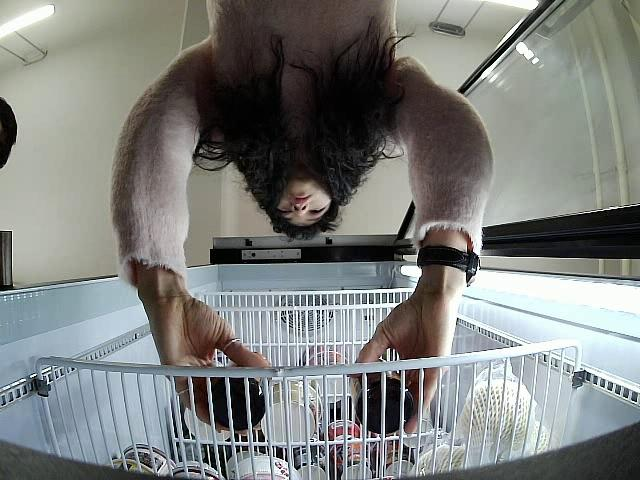00_hand: (151, 297, 270, 437), (346, 296, 458, 437)
17_vita500: (347, 351, 417, 435), (209, 359, 267, 430)
